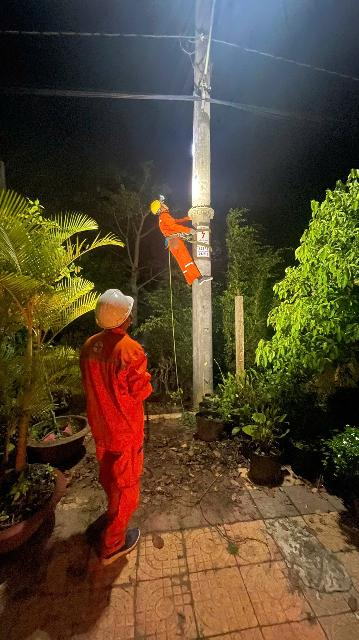gloves: (189, 228, 199, 235)
harness: (161, 230, 199, 243)
helmet: (88, 280, 138, 334), (147, 196, 164, 216)
shoes: (94, 526, 142, 564), (189, 271, 218, 285)
